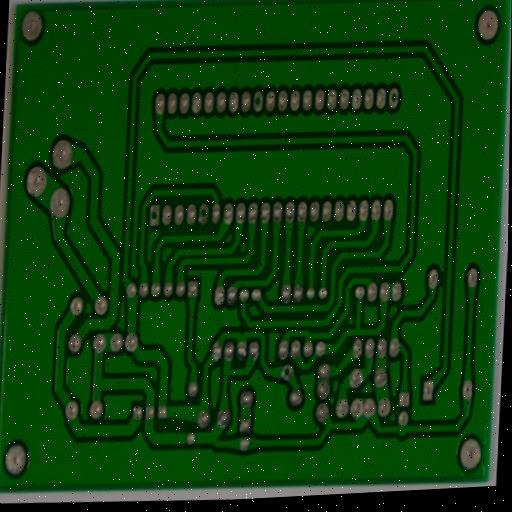missing_hole: (386, 85, 401, 112), (250, 89, 265, 114), (147, 203, 161, 228), (196, 202, 210, 227), (279, 362, 295, 383)
